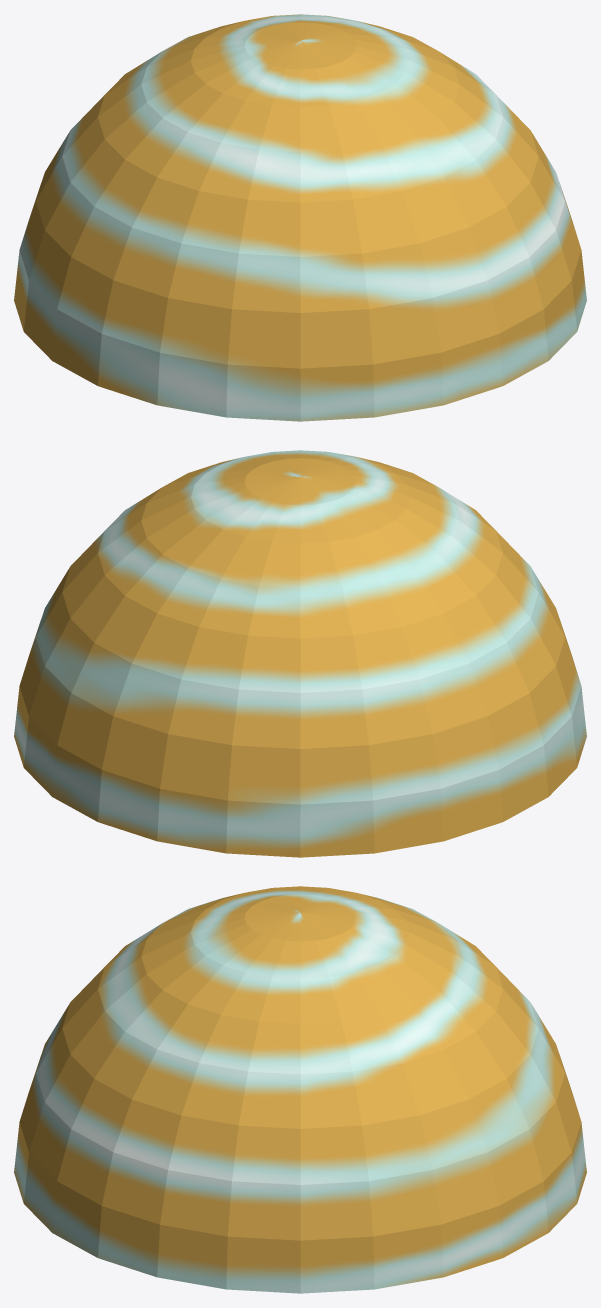
Rendered from vfx_dome.obj.
3 views of the same model, one above another, from view 1: azimuth 30°, elevation 25°; view 2: azimuth 150°, elevation 25°; view 3: azimuth 270°, elevation 25° (orthographic).
Bounding box in the file's own units: 2.2 × 1.1 × 2.2.
